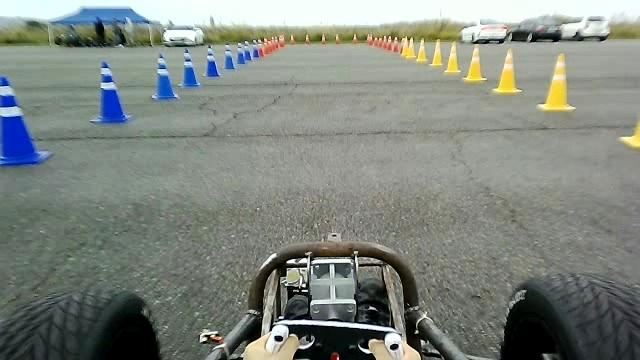blue cone: (89, 60, 132, 124), (151, 52, 178, 100), (177, 47, 200, 87), (202, 44, 220, 78), (222, 49, 235, 69), (236, 42, 245, 64)
yellow cone: (536, 52, 575, 111), (492, 47, 522, 93), (462, 45, 487, 82), (443, 40, 460, 73), (429, 38, 442, 66), (415, 37, 428, 63), (405, 36, 416, 59), (399, 36, 408, 56), (385, 36, 392, 50), (320, 33, 326, 44), (289, 33, 295, 44), (352, 33, 358, 43)
